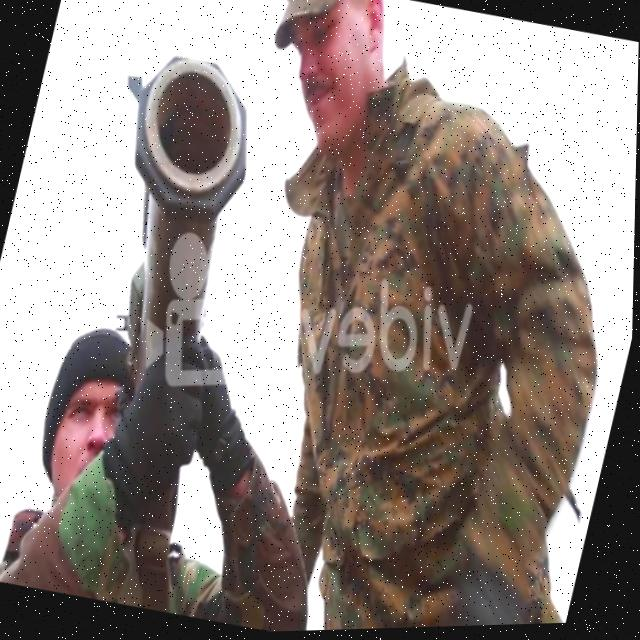rocket: (59, 28, 311, 399)
